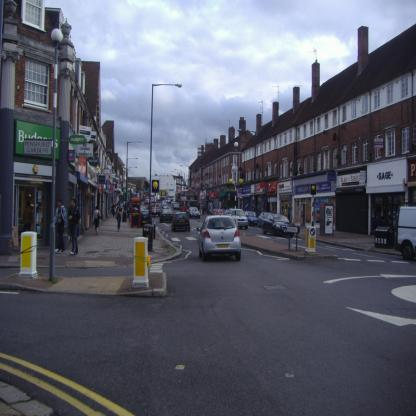Car: (213, 206, 296, 241), (193, 209, 247, 260), (135, 197, 202, 235)
